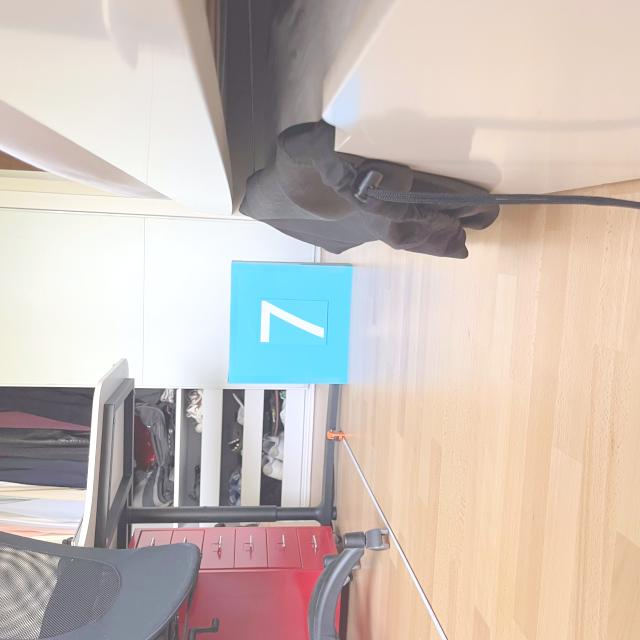box: (224, 256, 356, 386)
